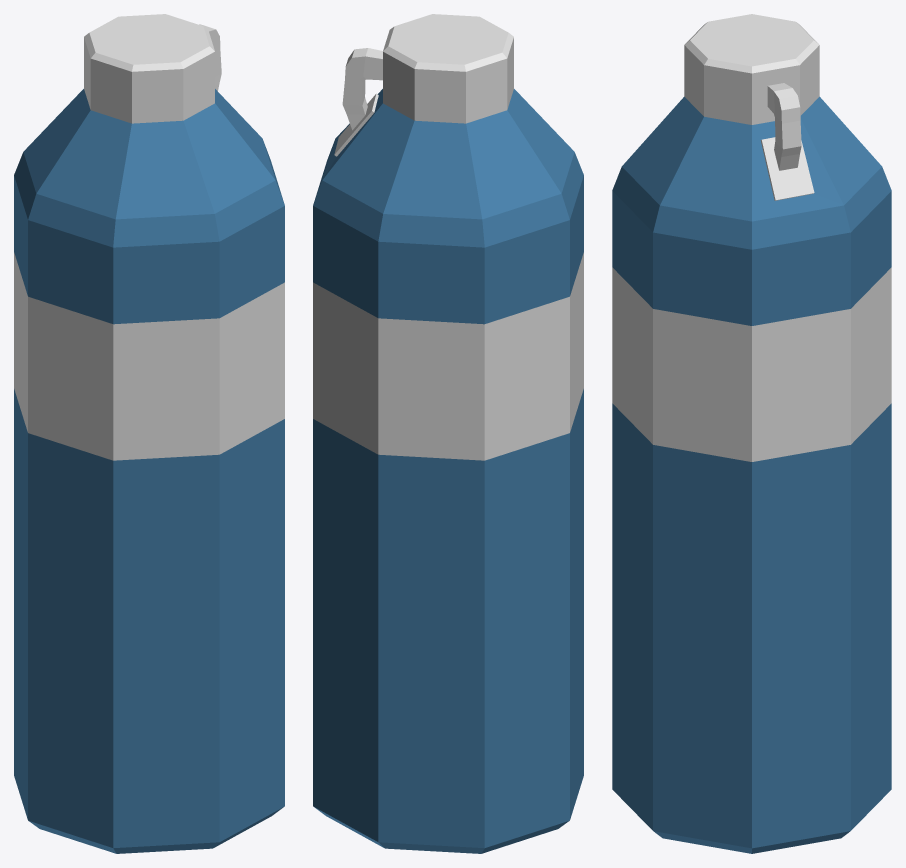
Rendered from WatterBottle.fbx.
3 views of the same model, side by side, from view 1: azimuth 30°, elevation 25°; view 2: azimuth 150°, elevation 25°; view 3: azimuth 270°, elevation 25° (orthographic).
Parts seen in each view (by area): view 1: WaterBottle; view 2: WaterBottle; view 3: WaterBottle.
Part boxes in pixels (x1,y1,x2,y2): WaterBottle: (14,14,284,853); WaterBottle: (313,14,583,853); WaterBottle: (612,14,891,853).
Size of the model in its own units: 0.1425 by 0.4275 by 0.1425.
